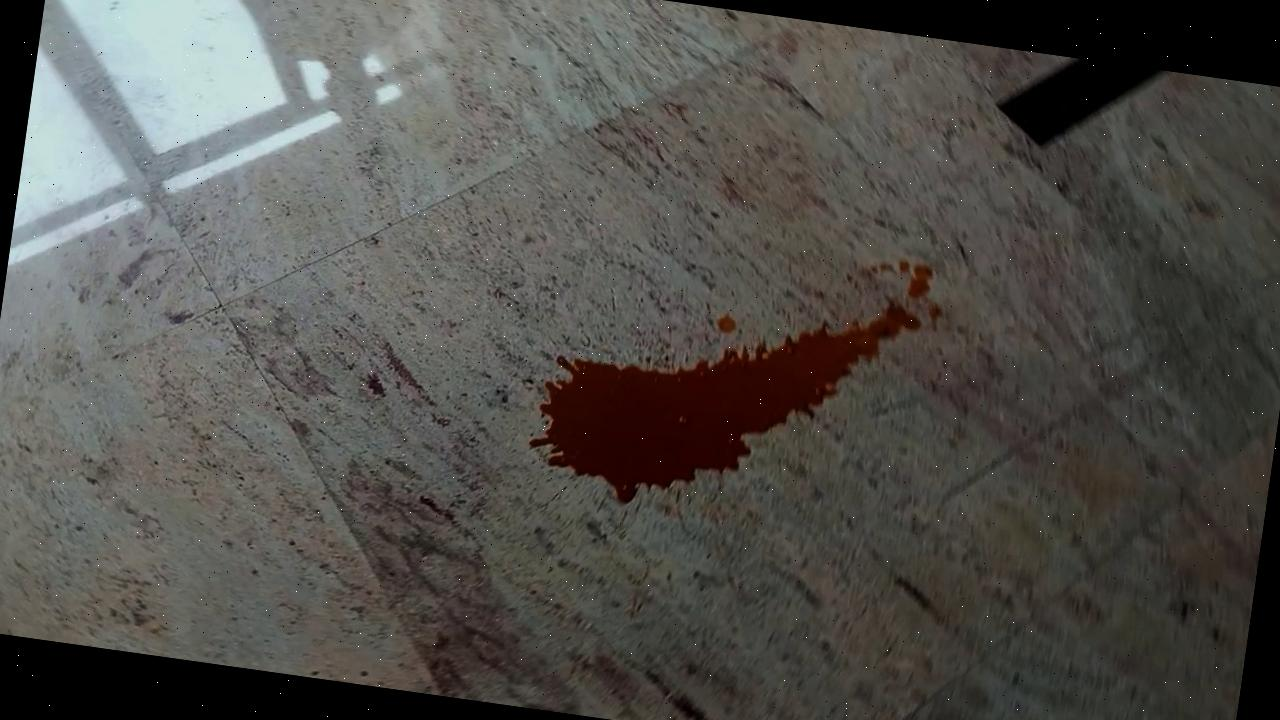dirty_floor: (520, 159, 966, 547)
